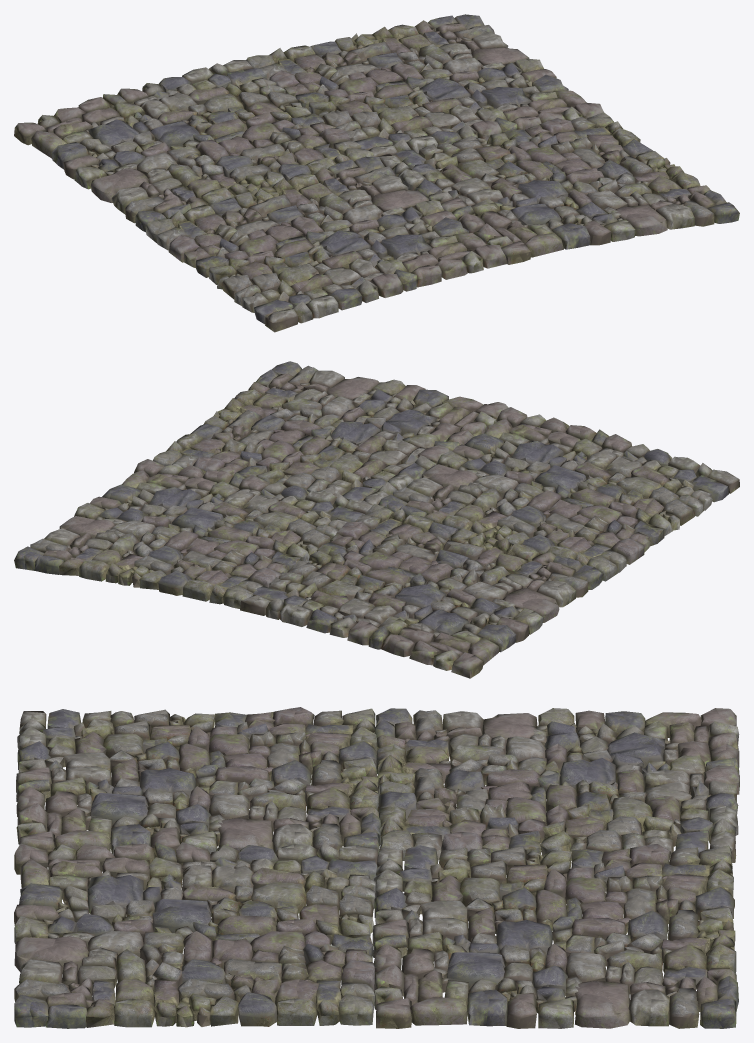
The model's file is SM_Cobbles_8M.fbx.
The picture shows the model from 3 angles, top to bottom: view 1: azimuth 30°, elevation 25°; view 2: azimuth 150°, elevation 25°; view 3: azimuth 270°, elevation 25°; orthographic projection. The views are drawn at different scales.
Parts seen in each view (by area): view 1: SM_Cobbles_8M_LOD0; view 2: SM_Cobbles_8M_LOD0; view 3: SM_Cobbles_8M_LOD0.
Part boxes in pixels (x1,y1,x2,y2): SM_Cobbles_8M_LOD0: (14,14,739,332); SM_Cobbles_8M_LOD0: (14,361,739,678); SM_Cobbles_8M_LOD0: (14,707,739,1028).
Size of the model in its own units: 832 by 833 by 49.99.
